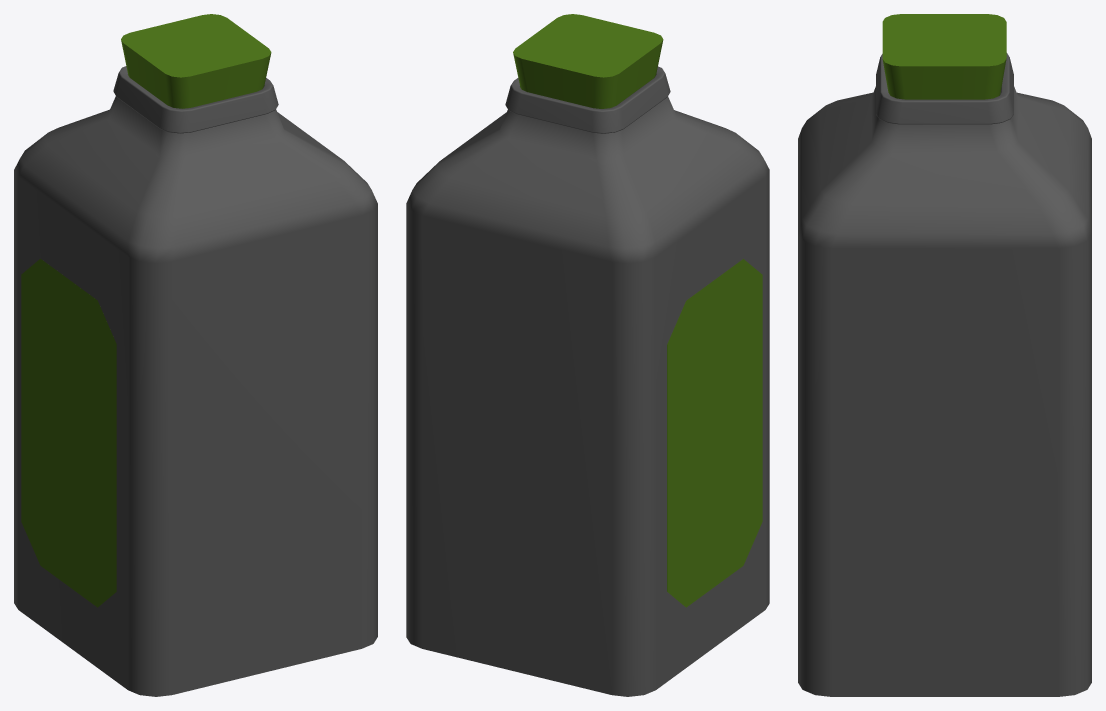
The model's file is pocion07.fbx.
3 renders of one model, left to right at view 1: azimuth 30°, elevation 25°; view 2: azimuth 150°, elevation 25°; view 3: azimuth 270°, elevation 25°, orthographic. The views are drawn at different scales.
Visible parts, largest first — view 1: pocion07; view 2: pocion07; view 3: pocion07.
Part boxes in pixels (bbox=[...]): pocion07: bbox=[14, 14, 377, 696]; pocion07: bbox=[406, 14, 769, 696]; pocion07: bbox=[798, 14, 1091, 696].
Bounding box in the file's own units: 1.75 × 3.84 × 1.72.
